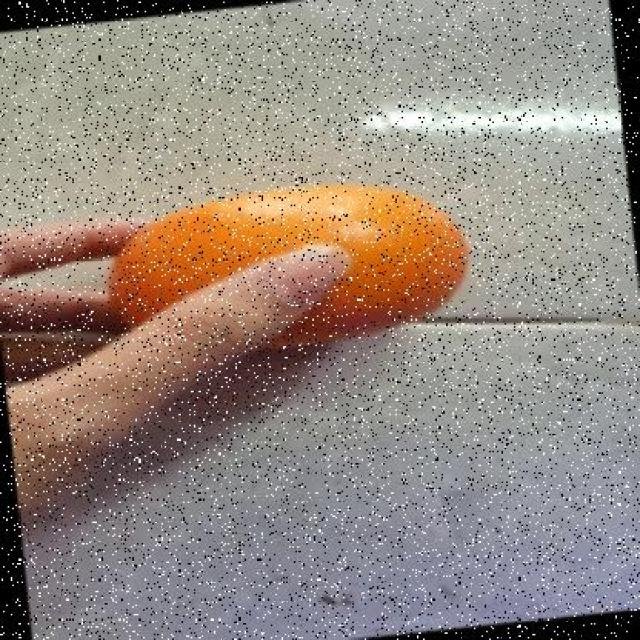Orange: (106, 180, 471, 351)
